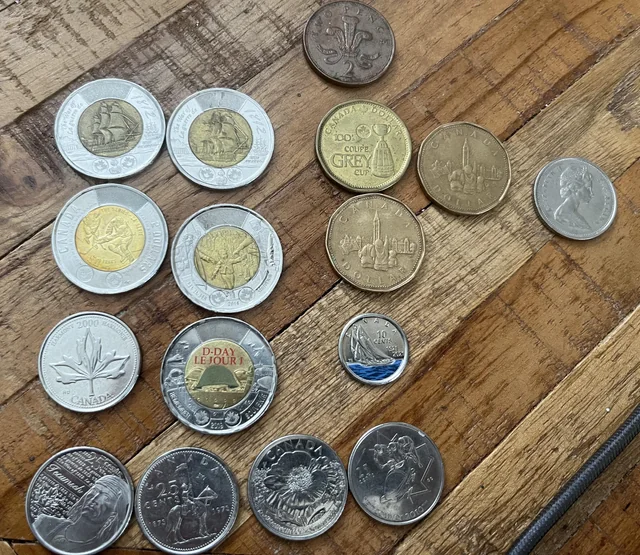coin: (161, 317, 276, 434), (52, 183, 167, 293), (171, 204, 282, 312), (26, 447, 133, 554), (54, 78, 164, 178), (135, 448, 238, 554), (167, 88, 273, 188), (248, 435, 347, 539), (38, 312, 140, 411), (348, 422, 443, 524), (326, 193, 424, 291), (316, 100, 411, 192), (417, 122, 510, 214), (303, 1, 394, 85), (534, 158, 616, 239), (338, 313, 408, 384)
